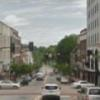cars: (76, 86, 100, 100), (0, 80, 21, 90), (70, 80, 96, 88), (36, 72, 44, 82)
